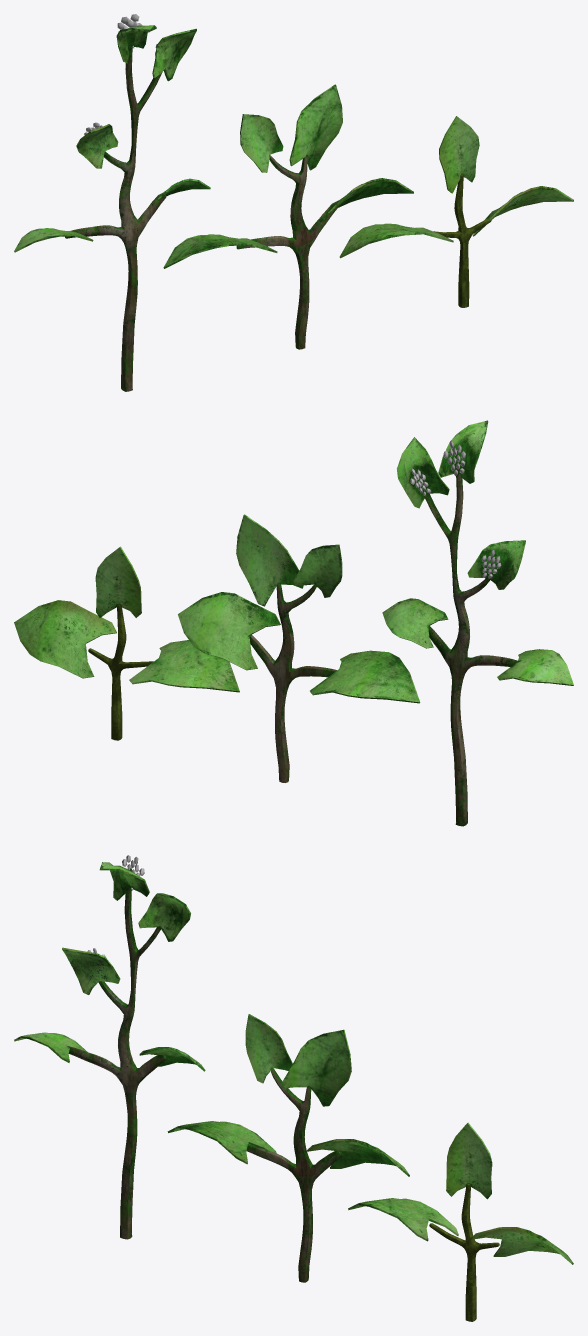
File: BuckwheatAll.fbx
3 views of the same model, one above another, from view 1: azimuth 30°, elevation 25°; view 2: azimuth 150°, elevation 25°; view 3: azimuth 330°, elevation 25° (orthographic). The views are drawn at different scales.
Parts seen in each view (by area): view 1: Plane.004, Plane.006, Plane.002; view 2: Plane.004, Plane.006, Plane.002; view 3: Plane.004, Plane.006, Plane.002.
Boxes of the visible parts, x1,y1,x2,y2 form: Plane.004: (163,84,413,349); Plane.006: (14,14,210,391); Plane.002: (339,116,573,307); Plane.004: (178,514,420,782); Plane.006: (382,420,573,826); Plane.002: (14,546,239,740); Plane.004: (167,1014,409,1282); Plane.006: (14,855,205,1239); Plane.002: (348,1122,573,1321).
Bounding box in the file's own units: 717 × 467 × 98.15.
